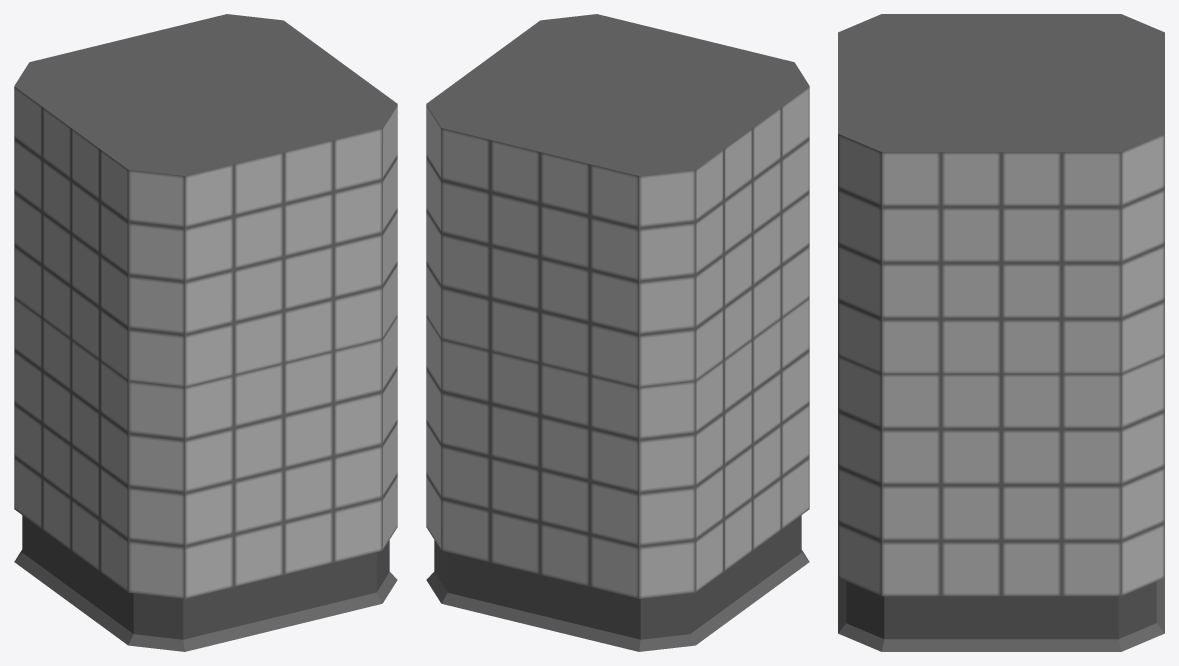
File: SW_ENV_PillarTiledBase.fbx
3 views of the same model, side by side, from view 1: azimuth 30°, elevation 25°; view 2: azimuth 150°, elevation 25°; view 3: azimuth 270°, elevation 25° (orthographic). The views are drawn at different scales.
Parts seen in each view (by area): view 1: SW_ENV_PillarTiledBase; view 2: SW_ENV_PillarTiledBase; view 3: SW_ENV_PillarTiledBase.
Boxes of the visible parts, bbox=[...] form: SW_ENV_PillarTiledBase: bbox=[14, 14, 397, 651]; SW_ENV_PillarTiledBase: bbox=[426, 14, 809, 651]; SW_ENV_PillarTiledBase: bbox=[838, 14, 1164, 651].
Size of the model in its own units: 80 by 135 by 80.
